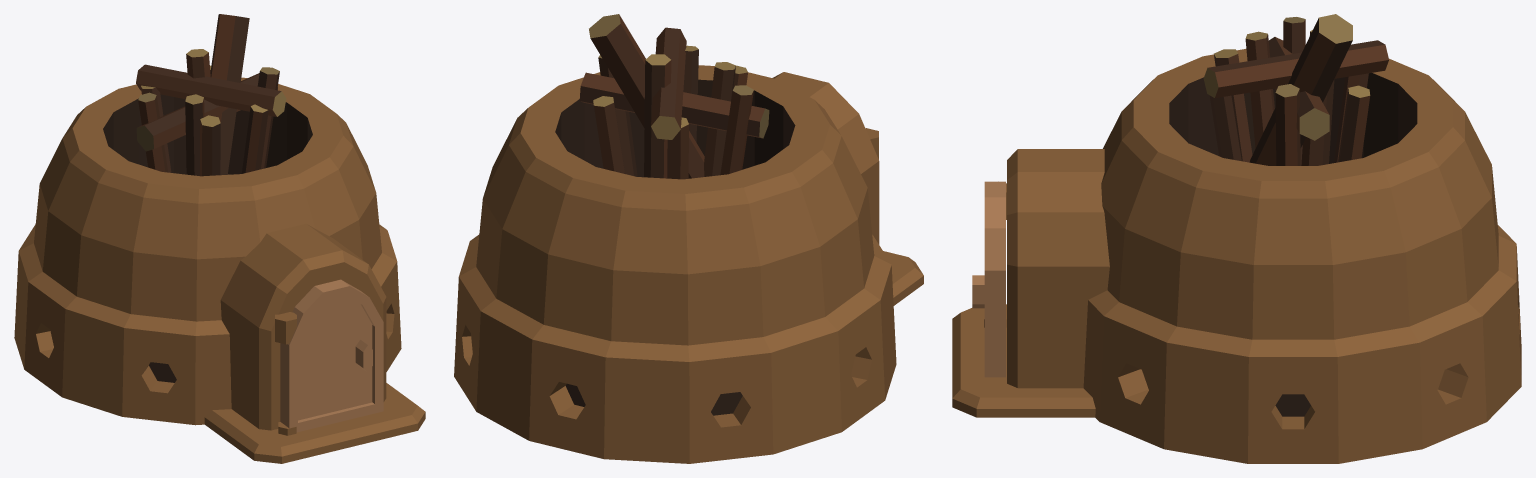
File: charcoal-production-kiln-853efe.glb
The picture shows the model from 3 angles, left to right: view 1: azimuth 30°, elevation 25°; view 2: azimuth 150°, elevation 25°; view 3: azimuth 270°, elevation 25°; orthographic projection. The views are drawn at different scales.
Visible parts, largest first — view 1: kiln-body, charge-mesh, door-leaf; view 2: kiln-body, charge-mesh; view 3: kiln-body, charge-mesh, door-leaf.
Part boxes in pixels (x1,y1,x2,y2): kiln-body: (14, 77, 425, 463); charge-mesh: (136, 14, 286, 176); door-leaf: (280, 279, 383, 432); kiln-body: (454, 65, 923, 463); charge-mesh: (579, 14, 769, 179); kiln-body: (952, 49, 1521, 463); charge-mesh: (1203, 14, 1388, 165); door-leaf: (972, 181, 1005, 377).
Size of the model in its own units: 1.5 by 1.35 by 1.87.
